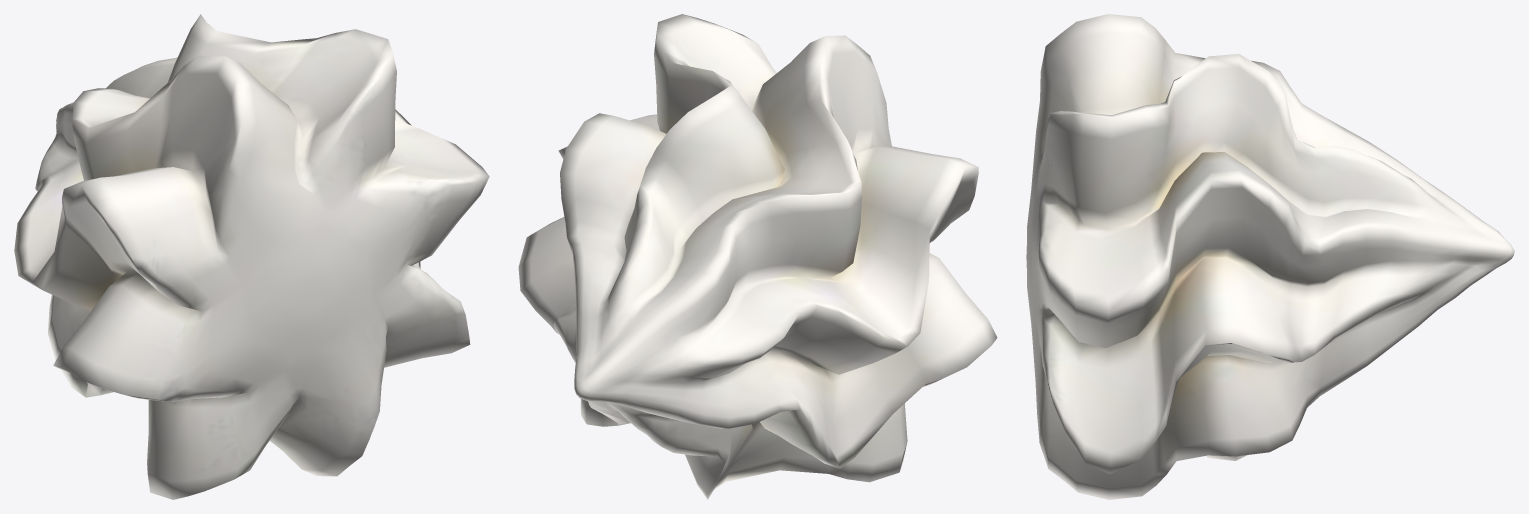
The model's file is piping-ruffled-swirl.glb.
3 renders of one model, left to right at view 1: azimuth 30°, elevation 25°; view 2: azimuth 150°, elevation 25°; view 3: azimuth 270°, elevation 25°, orthographic.
Parts seen in each view (by area): view 1: set1_cream6; view 2: set1_cream6; view 3: set1_cream6.
Part boxes in pixels (<box>): set1_cream6: <box>14,14,489,499</box>; set1_cream6: <box>518,14,997,499</box>; set1_cream6: <box>1026,14,1514,499</box>.
Size of the model in its own units: 0.0196 by 0.0196 by 0.0197.
1 material, 1 textured.
